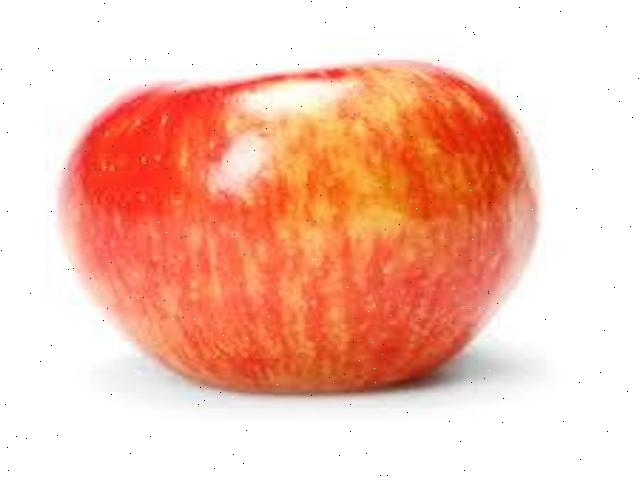apple: (46, 54, 551, 398)
